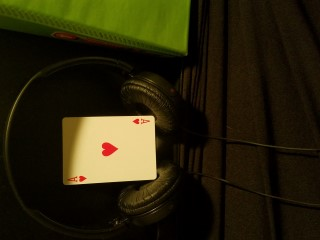AceOfHearts: (61, 114, 159, 188)
